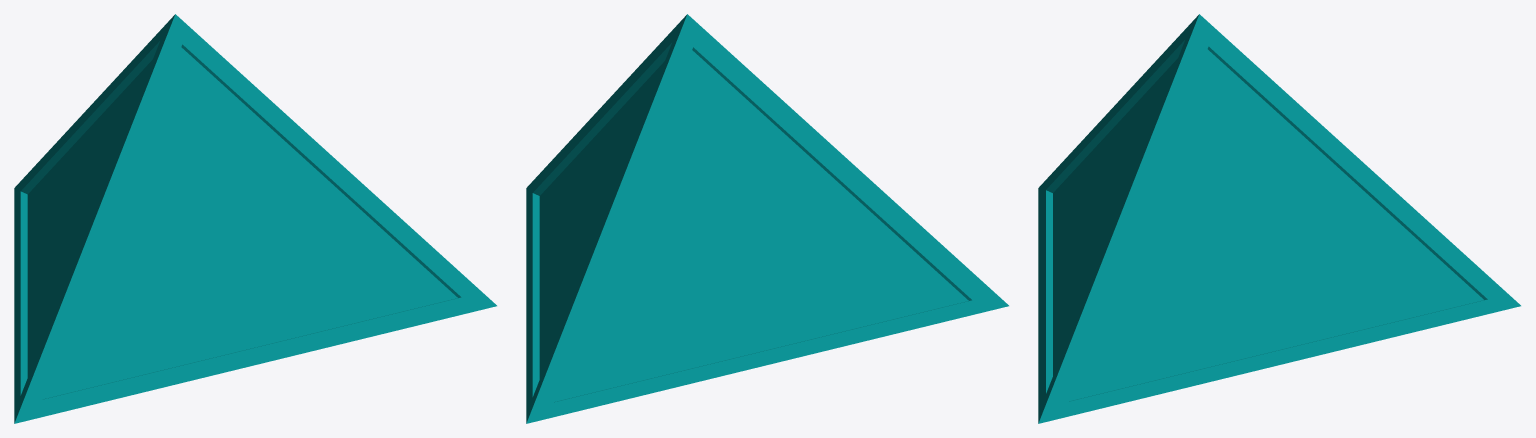
File: SFI0310006.fbx
3 views of the same model, side by side, from view 1: azimuth 30°, elevation 25°; view 2: azimuth 150°, elevation 25°; view 3: azimuth 270°, elevation 25° (orthographic).
Visible parts, largest first — view 1: smSFI0310006; view 2: smSFI0310006; view 3: smSFI0310006.
Boxes of the visible parts, left/top/right/bottom form: smSFI0310006: left=14, top=14, right=496, bottom=423; smSFI0310006: left=526, top=14, right=1008, bottom=423; smSFI0310006: left=1038, top=14, right=1520, bottom=423.
Bounding box in the file's own units: 173 × 100 × 150.
